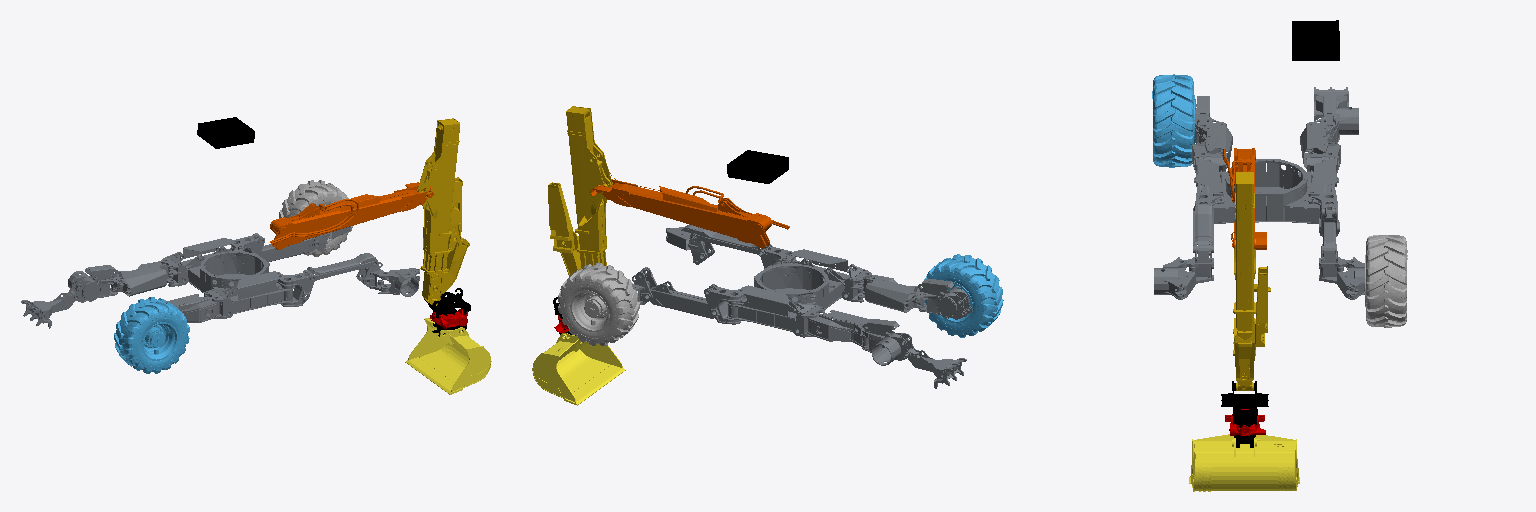
--- Render facts (derived) ---
3 views of the same robot in one strip: view 1: azimuth 30°, elevation 25°; view 2: azimuth 150°, elevation 25°; view 3: azimuth 270°, elevation 25° (orthographic).
Model M545 with 47 links and 46 joints (22 revolute, 6 continuous, 1 prismatic, 17 fixed), rooted at BASE, posed joints at zero except 1 at the middle of their limits (J_DIPPER = 1.68).
Links seen in each view (by area): view 1: BASE, RH_WHEEL, DIPPER, BOOM, SHOVEL, TELE, LF_WHEEL, LH_KNUCKLE, roof_top_box, LH_BEAM, RH_BEAM, RF_KNUCKLE (+6 smaller); view 2: BASE, LF_WHEEL, BOOM, DIPPER, SHOVEL, RH_WHEEL, TELE, RH_KNUCKLE, LH_KNUCKLE, LH_BEAM, roof_top_box, RH_BEAM (+8 smaller); view 3: BASE, SHOVEL, LF_WHEEL, RH_WHEEL, DIPPER, TELE, roof_top_box, RF_KNUCKLE, LH_KNUCKLE, ROTO_BASE, BOOM, LH_BEAM (+8 smaller).
Boxes of the visible links, left/top/right/bottom form: BASE: left=180, top=238, right=294, bottom=313; RH_WHEEL: left=114, top=297, right=189, bottom=373; DIPPER: left=417, top=118, right=459, bottom=274; BOOM: left=270, top=182, right=433, bottom=249; SHOVEL: left=405, top=318, right=491, bottom=394; TELE: left=422, top=127, right=469, bottom=305; LF_WHEEL: left=279, top=180, right=352, bottom=256; LH_KNUCKLE: left=68, top=265, right=123, bottom=302; roof_top_box: left=197, top=117, right=254, bottom=148; LH_BEAM: left=110, top=261, right=168, bottom=296; RH_BEAM: left=166, top=294, right=219, bottom=322; RF_KNUCKLE: left=378, top=268, right=419, bottom=296; BASE: left=727, top=249, right=849, bottom=332; LF_WHEEL: left=558, top=263, right=639, bottom=345; BOOM: left=590, top=172, right=789, bottom=248; DIPPER: left=566, top=106, right=612, bottom=269; SHOVEL: left=532, top=333, right=625, bottom=405; RH_WHEEL: left=924, top=254, right=1003, bottom=337; TELE: left=548, top=116, right=588, bottom=276; RH_KNUCKLE: left=912, top=278, right=972, bottom=319; LH_KNUCKLE: left=862, top=319, right=914, bottom=365; LH_BEAM: left=807, top=310, right=870, bottom=347; roof_top_box: left=727, top=150, right=788, bottom=183; RH_BEAM: left=863, top=275, right=925, bottom=312; BASE: left=1196, top=159, right=1335, bottom=223; SHOVEL: left=1189, top=434, right=1299, bottom=491; LF_WHEEL: left=1365, top=235, right=1407, bottom=327; RH_WHEEL: left=1152, top=74, right=1194, bottom=167; DIPPER: left=1233, top=172, right=1270, bottom=355; TELE: left=1234, top=266, right=1267, bottom=390; roof_top_box: left=1292, top=20, right=1339, bottom=60; RF_KNUCKLE: left=1154, top=257, right=1195, bottom=299; LH_KNUCKLE: left=1306, top=96, right=1358, bottom=143; ROTO_BASE: left=1221, top=381, right=1268, bottom=427; BOOM: left=1223, top=148, right=1266, bottom=249; LH_BEAM: left=1300, top=125, right=1340, bottom=172.
Bounding box of the posed robot: 7.95 × 3.44 × 5.09 m (x, y, z).
Meshes: 33 distinct files referenced, 25 mesh visuals loaded (25 Collada DAE); not drawn: 8 (reference not matched to a file when rendering).

robot.urdf — M545:
<?xml version="1.0" ?>
<!-- =================================================================================== -->
<!-- |    This document was autogenerated by xacro from m545.urdf.xacro                | -->
<!-- |    EDITING THIS FILE BY HAND IS NOT RECOMMENDED                                 | -->
<!-- =================================================================================== -->
<robot name="M545">
  <!--         		-->
  <!-- M545 Excavator -->
  <!--         		-->
  <!--     Front		-->
  <!-- 2*0.027604832 -->
  <!--     Hind		-->
  <!-- 1.5*-2.538998962 -->
  <!--     Chassis/Cabin		-->
  <!-- Parameters -->
  <gazebo>
    <plugin filename="libm545_gazebo_plugin.so" name="Plugin_M545">
      <max_effort>1500000</max_effort>
    </plugin>
  </gazebo>
  <static>false</static>
  <link name="BASE">
    <visual>
      <geometry>
        <mesh filename="package://m545_urdf/meshes/BASE.dae"/>
      </geometry>
      <origin rpy="0 0 0" xyz="0 0 0"/>
    </visual>
    <collision>
      <geometry>
        <box size="1.15 1.8 0.475"/>
      </geometry>
      <origin rpy="0 0 0" xyz="-0.0 -0.0 0.225"/>
    </collision>
  </link>
  <gazebo reference="BASE">
    <kp>50000000.0</kp>
    <kd>2000000.0</kd>
    <mu1>0.8</mu1>
    <mu2>0.8</mu2>
  </gazebo>
  <!-- Dummy inertia link, because KDL cannot have inertia on the base link -->
  <link name="BASE_inertia">
    <inertial>
      <origin rpy="0 0 0" xyz="-0.011047979 -0.001668192 0.164556349"/>
      <mass value="1700"/>
      <inertia ixx="712.367628108" ixy="0.063171691" ixz="-0.923139486" iyy="294.811317005" iyz="0.440023384" izz="941.703378555"/>
    </inertial>
  </link>
  <!-- Fixed joint to add dummy inertia link -->
  <joint name="BASE_to_BASE_inertia" type="fixed">
    <parent link="BASE"/>
    <child link="BASE_inertia"/>
    <origin rpy="0 0 0" xyz="0 0 0"/>
  </joint>
  <!--         		-->
  <!-- M545 Excavator -->
  <!--         		-->
  <!--     Front		-->
  <!-- 2*0.027604832 -->
  <!--     Hind		-->
  <!-- 1.5*-2.538998962 -->
  <!--     Chassis/Cabin		-->
  <link name="LF_SWIVEL">
    <visual>
      <geometry>
        <mesh filename="package://m545_urdf/meshes/LF_SWIVEL.dae"/>
      </geometry>
      <origin rpy="0 0 0" xyz="0 0 0"/>
    </visual>
    <inertial>
      <origin rpy="0 0 0" xyz="0.163191642 0.020092442 0.048603248"/>
      <mass value="115"/>
      <inertia ixx="4.398905519" ixy="0.435031339" ixz="0.186769766" iyy="6.276839457" iyz="-0.325429239" izz="4.062523726"/>
    </inertial>
    <collision>
      <geometry>
        <box size="0.58 0.22 0.5"/>
      </geometry>
      <origin rpy="0 0 0" xyz="0.18 0 0"/>
    </collision>
  </link>
  <gazebo reference="LF_SWIVEL">
    <kp>50000000.0</kp>
    <kd>2000000.0</kd>
    <mu1>0.8</mu1>
    <mu2>0.8</mu2>
  </gazebo>
  <joint name="J_LF_HAA" type="revolute">
    <parent link="BASE"/>
    <child link="LF_SWIVEL"/>
    <origin xyz="0.550 0.85 0.1335"/>
    <axis xyz="0 0 1"/>
    <!-- true if reflect=1-->
    <limit effort="1500000" lower="-0.5201" upper="0.7802" velocity="6.28"/>
    <!-- LF -->
    <dynamics damping="0.0" friction="0.0"/>
  </joint>
  <gazebo reference="J_LF_HAA">
  </gazebo>
  <link name="LF_BEAM">
    <visual>
      <geometry>
        <mesh filename="package://m545_urdf/meshes/LF_BEAM.dae"/>
      </geometry>
      <origin rpy="0 0 0" xyz="0 0 0"/>
    </visual>
    <inertial>
      <origin rpy="0 0 0" xyz="0.584124663 0.0 0.06694352"/>
      <mass value="200"/>
      <inertia ixx="3.428979601" ixy="-0.211389264" ixz="-0.112828418" iyy="32.455741081" iyz="-0.00050057" izz="30.021583564"/>
    </inertial>
    <collision>
      <geometry>
        <box size="1.1 0.28 0.25"/>
      </geometry>
      <origin rpy="0 0 0" xyz="0.6 0.0 -0.025"/>
    </collision>
  </link>
  <gazebo reference="LF_BEAM">
    <kp>50000000.0</kp>
    <kd>2000000.0</kd>
    <mu1>0.8</mu1>
    <mu2>0.8</mu2>
  </gazebo>
  <joint name="J_LF_HFE" type="revolute">
    <parent link="LF_SWIVEL"/>
    <child link="LF_BEAM"/>
    <origin xyz="0.28 0.0011 -0.0895"/>
    <axis xyz="0 1 0"/>
    <limit effort="1500000" lower="-0.3159" upper="0.8238" velocity="6.28"/>
    <dynamics damping="0.0" friction="0.0"/>
  </joint>
  <gazebo reference="J_LF_HFE">
  </gazebo>
  <link name="LF_PARALLEL">
    <visual>
      <geometry>
        <mesh filename="package://m545_urdf/meshes/LF_PARALLEL.dae"/>
      </geometry>
      <origin rpy="0 0 0" xyz="0 0 0"/>
    </visual>
    <inertial>
      <origin rpy="0 0 0" xyz="0.611997693 0.0 0.014937547"/>
      <mass value="75"/>
      <inertia ixx="0.764419514" ixy="-0.000525074" ixz="0.066640819" iyy="7.442807074" iyz="-0.000675307" izz="8.063270252"/>
    </inertial>
    <collision>
      <geometry>
        <box size="1.3 0.28 0.1"/>
      </geometry>
      <origin rpy="0 0 0" xyz="0.6 0.0 0.01"/>
    </collision>
  </link>
  <gazebo reference="LF_PARALLEL">
    <kp>50000000.0</kp>
    <kd>2000000.0</kd>
    <mu1>0.8</mu1>
    <mu2>0.8</mu2>
  </gazebo>
  <joint name="J_LF_PARALLEL2" type="revolute">
    <parent link="LF_SWIVEL"/>
    <child link="LF_PARALLEL"/>
    <origin xyz="0.4249 0.0017 0.2105"/>
    <axis xyz="0 1 0"/>
    <limit effort="1500000" lower="-0.3159" upper="0.8238" velocity="6.28"/>
    <mimic joint="J_LF_HFE" multiplier="1" offset="0"/>
    <dynamics damping="0.0" friction="0.0"/>
  </joint>
  <gazebo reference="J_LF_PARALLEL2">
  </gazebo>
  <gazebo>
    <joint name="J_LF_PARALLEL3" type="ball">
      <parent>LF_PARALLEL</parent>
      <child>LF_BEARING</child>
      <pose>0.145 0.0 0.3 0 0 0</pose>
      <axis>
        <xyz>0 1 0</xyz>
        <limit>
          <lower>-0.8238</lower>
          <upper>0.3159</upper>
          <velocity>6.28</velocity>
          <effort>1500000</effort>
        </limit>
      </axis>
    </joint>
  </gazebo>
  <link name="LF_BEARING">
    <visual>
      <geometry>
        <mesh filename="package://m545_urdf/meshes/LF_BEARING.dae"/>
      </geometry>
      <origin rpy="0 0 0" xyz="0 0 0"/>
    </visual>
    <inertial>
      <origin rpy="0 0 0" xyz="0.145288714 -0.057062246 0.045380647"/>
      <mass value="100"/>
      <inertia ixx="3.490730027" ixy="-0.367098034" ixz="0.050497166" iyy="2.470939089" iyz="0.283572413" izz="2.21999363"/>
    </inertial>
    <collision>
      <geometry>
        <box size="0.18 0.3 0.325"/>
      </geometry>
      <origin rpy="0 0 0" xyz="0.2 0.2 0"/>
    </collision>
    <collision>
      <geometry>
        <box size="0.275 0.275 0.525"/>
      </geometry>
      <origin rpy="0 0.5 0" xyz="0.125 0.025 0.1"/>
    </collision>
  </link>
  <gazebo reference="LF_BEARING">
    <kp>50000000.0</kp>
    <kd>2000000.0</kd>
    <mu1>0.8</mu1>
    <mu2>0.8</mu2>
  </gazebo>
  <joint name="J_LF_PARALLEL" type="revolute">
    <parent link="LF_BEAM"/>
    <child link="LF_BEARING"/>
    <origin xyz="1.2 0.0 0.0"/>
    <axis xyz="0 1 0"/>
    <limit effort="1500000" lower="-0.8238" upper="0.3159" velocity="6.28"/>
    <mimic joint="J_LF_HFE" multiplier="-1" offset="0"/>
    <dynamics damping="0.0" friction="0.0"/>
  </joint>
  <gazebo reference="J_LF_PARALLEL">
  </gazebo>
  <link name="LF_KNUCKLE">
    <visual>
      <geometry>
        <mesh filename="package://m545_urdf/meshes/LF_KNUCKLE.dae"/>
      </geometry>
      <origin rpy="0 0 0" xyz="0 0 0"/>
    </visual>
    <inertial>
      <origin rpy="0 0 0" xyz="0.256156551 0.082176716 0.030358334"/>
      <mass value="270"/>
      <inertia ixx="6.9755496" ixy="0.055209664" ixz="0.00675143" iyy="10.94537266" iyz="-0.003582388" izz="12.678481354"/>
    </inertial>
    <collision>
      <geometry>
        <box size="0.35 0.15 0.35"/>
      </geometry>
      <origin rpy="0 0 0.825" xyz="0.075 0.075 0"/>
    </collision>
    <collision>
      <geometry>
        <box size="0.4 0.3 0.2"/>
      </geometry>
      <origin rpy="0 0 0.3" xyz="0.35 0 0"/>
    </collision>
    <collision>
      <geometry>
        <cylinder length="0.35" radius="0.18"/>
      </geometry>
      <origin rpy="1.57 0 0" xyz="0.275 0.2 0"/>
    </collision>
  </link>
  <gazebo reference="LF_KNUCKLE">
    <kp>50000000.0</kp>
    <kd>2000000.0</kd>
    <mu1>0.8</mu1>
    <mu2>0.8</mu2>
  </gazebo>
  <joint name="J_LF_STEER" type="revolute">
    <parent link="LF_BEARING"/>
    <child link="LF_KNUCKLE"/>
    <origin xyz="0.235 0.298 -0.003"/>
    <axis xyz="0 0 1"/>
    <!-- true if reflect=1-->
    <limit effort="1500000" lower="-0.8517" upper="0.8115" velocity="6.28"/>
    <!-- LF -->
    <dynamics damping="0.0" friction="0.0"/>
  </joint>
  <gazebo reference="J_LF_STEER">
  </gazebo>
  <link name="LF_WHEEL">
    <visual>
      <geometry>
        <mesh filename="package://m545_urdf/meshes/LF_WHEEL.dae"/>
      </geometry>
      <origin rpy="0 0 0" xyz="0 0 0"/>
    </visual>
    <inertial>
      <origin rpy="0 0 0" xyz="0 0.007923201 0"/>
      <mass value="280"/>
      <inertia ixx="38.817750093" ixy="0" ixz="0" iyy="62.372189183" iyz="0" izz="38.815038925"/>
    </inertial>
    <collision>
      <geometry>
        <cylinder length="0.01" radius="0.6296"/>
      </geometry>
      <origin rpy="1.57 0 0" xyz="0 0 0"/>
    </collision>
  </link>
  <gazebo reference="LF_WHEEL">
    <kp>50000000.0</kp>
    <kd>2000000.0</kd>
    <mu1>0.8</mu1>
    <mu2>0.8</mu2>
  </gazebo>
  <joint name="J_LF_WHEEL" type="continuous">
    <parent link="LF_KNUCKLE"/>
    <child link="LF_WHEEL"/>
    <origin xyz="0.27 0.471 0.003"/>
    <axis xyz="0 1 0"/>
    <limit effort="1500000" velocity="6.28"/>
    <dynamics damping="0.0" friction="0.0"/>
  </joint>
  <gazebo reference="J_LF_WHEEL">
  </gazebo>
  <link name="LF_WHEEL_CONTACT"/>
  <joint name="LF_WHEEL_TO_LF_WHEEL_CONTACT" type="fixed">
    <parent link="LF_WHEEL"/>
    <child link="LF_WHEEL_CONTACT"/>
    <origin rpy="0 0 0" xyz="0 0 0"/>
  </joint>
  <link name="LH_ROTATOR">
    <visual>
      <geometry>
        <mesh filename="package://m545_urdf/meshes/LH_ROTATOR.dae"/>
      </geometry>
      <origin rpy="0 0 0" xyz="0 0 0"/>
    </visual>
    <inertial>
      <origin rpy="0 0 0" xyz="-0.090832234 0.002744135 0.144031103"/>
      <mass value="115"/>
      <inertia ixx="3.867796397" ixy="0.203079468" ixz="0.25308155" iyy="2.672208384" iyz="0.13501603" izz="2.648139472"/>
    </inertial>
    <collision>
      <geometry>
        <box size="0.3607 0.404 0.4"/>
      </geometry>
      <origin rpy="0 0 0" xyz="-0.05 0.0 0.12"/>
    </collision>
  </link>
  <gazebo reference="LH_ROTATOR">
    <kp>50000000.0</kp>
    <kd>2000000.0</kd>
    <mu1>0.8</mu1>
    <mu2>0.8</mu2>
  </gazebo>
  <joint name="J_LH_HFE" type="revolute">
    <parent link="BASE"/>
    <child link="LH_ROTATOR"/>
    <origin xyz="-0.640 0.755 0.060"/>
    <axis xyz="0 1 0"/>
    <limit effort="1500000" lower="-0.8343" upper="0.2618" velocity="6.28"/>
    <dynamics damping="0.0" friction="0.0"/>
  </joint>
  <gazebo reference="J_LH_HFE">
  </gazebo>
  <link name="LH_BEAM">
    <visual>
      <geometry>
        <mesh filename="package://m545_urdf/meshes/LH_BEAM.dae"/>
      </geometry>
      <origin rpy="0 0 0" xyz="0 0 0"/>
    </visual>
    <inertial>
      <origin rpy="0 0 0" xyz="-0.48851373 -0.042755794 -0.038331283"/>
      <mass value="280"/>
      <inertia ixx="7.06360381" ixy="-2.077029642" ixz="-1.804851306" iyy="24.488420582" iyz="0.498393128" izz="27.012076439"/>
    </inertial>
    <collision>
      <geometry>
        <box size="0.95 0.45 0.3"/>
      </geometry>
      <origin rpy="0 0 0" xyz="-0.5 -0.15 0.05"/>
    </collision>
  </link>
  <gazebo reference="LH_BEAM">
    <kp>50000000.0</kp>
    <kd>2000000.0</kd>
    <mu1>0.8</mu1>
    <mu2>0.8</mu2>
  </gazebo>
  <joint name="J_LH_HAA" type="revolute">
    <parent link="LH_ROTATOR"/>
    <child link="LH_BEAM"/>
    <origin xyz="-0.205 0.102 0.12"/>
    <axis xyz="0 0 1"/>
    <!-- true if reflect=1-->
    <limit effort="1500000" lower="-0.731292957" upper="0.542797397" velocity="6.28"/>
    <dynamics damping="0.0" friction="0.0"/>
  </joint>
  <gazebo reference="J_LH_HAA">
  </gazebo>
  <link name="LH_KNUCKLE">
    <visual>
      <geometry>
        <mesh filename="package://m545_urdf/meshes/LH_KNUCKLE.dae"/>
      </geometry>
      <origin rpy="0 0 0" xyz="0 0 0"/>
    </visual>
    <inertial>
      <origin rpy="0 0 0" xyz="-0.419372367 0.213687621 0.056306222"/>
      <mass value="370"/>
      <inertia ixx="18.225198614" ixy="-3.808498443" ixz="-0.992617577" iyy="28.156282278" iyz="2.506100865" izz="29.142770892"/>
    </inertial>
    <collision>
      <geometry>
        <box size="0.8 0.2 0.55"/>
      </geometry>
      <origin rpy="0 0 0" xyz="-0.4 0.0 0.125"/>
    </collision>
  </link>
  <gazebo reference="LH_KNUCKLE">
    <kp>50000000.0</kp>
    <kd>2000000.0</kd>
    <mu1>0.8</mu1>
    <mu2>0.8</mu2>
  </gazebo>
  <joint name="J_LH_STEER" type="revolute">
    <parent link="LH_BEAM"/>
    <child link="LH_KNUCKLE"/>
    <origin xyz="-0.975 0.0 -0.045"/>
    <axis xyz="0 0 1"/>
    <!-- true if reflect=1-->
    <limit effort="1500000" lower="-0.816743" upper="1.2863077" velocity="6.28"/>
    <dynamics damping="0.0" friction="0.0"/>
  </joint>
  <gazebo reference="J_LH_STEER">
  </gazebo>
  <link name="LH_WHEEL">
    <visual>
      <geometry>
        <mesh filename="package://m545_urdf/meshes/LH_WHEEL.dae"/>
      </geometry>
      <origin rpy="0 0 0" xyz="0 0 0"/>
    </visual>
    <inertial>
      <origin rpy="0 0 0" xyz="0 0.007923201 0"/>
      <mass value="280"/>
      <inertia ixx="38.817750093" ixy="0" ixz="0" iyy="62.372189183" iyz="0" izz="38.815038925"/>
    </inertial>
    <collision>
      <geometry>
        <cylinder length="0.01" radius="0.6296"/>
      </geometry>
      <origin rpy="1.57 0 0" xyz="0 0 0"/>
    </collision>
  </link>
  <gazebo reference="LH_WHEEL">
    <kp>50000000.0</kp>
    <kd>2000000.0</kd>
    <mu1>0.8</mu1>
    <mu2>0.8</mu2>
  </gazebo>
  <joint name="J_LH_WHEEL" type="continuous">
    <parent link="LH_KNUCKLE"/>
    <child link="LH_WHEEL"/>
    <origin xyz="-0.5 0.398 0.0305"/>
    <axis xyz="0 1 0"/>
    <limit effort="1500000" velocity="6.28"/>
    <dynamics damping="0.0" friction="0.0"/>
  </joint>
  <gazebo reference="J_LH_WHEEL">
  </gazebo>
  <link name="LH_WHEEL_CONTACT"/>
  <joint name="LH_WHEEL_TO_LH_WHEEL_CONTACT" type="fixed">
    <parent link="LH_WHEEL"/>
    <child link="LH_WHEEL_CONTACT"/>
    <origin rpy="0 0 0" xyz="0 0 0"/>
  </joint>
  <link name="LH_OUTRIGGER">
    <visual>
      <geometry>
        <mesh filename="package://m545_urdf/meshes/LH_OUTRIGGER.dae"/>
      </geometry>
      <origin rpy="0 0 0" xyz="0 0 0"/>
    </visual>
    <inertial>
      <origin rpy="0 0 0" xyz="-0.555493105 0 -0.140022870"/>
      <mass value="110"/>
      <inertia ixx="2.214139767" ixy="0" ixz="0.453481428" iyy="5.356489473" iyz="0" izz="6.037643655"/>
    </inertial>
    <collision>
      <geometry>
        <box size="0.35 0.45 0.4"/>
      </geometry>
      <origin rpy="0 0 0" xyz="-0.725 0 -0.2"/>
    </collision>
    <collision>
      <geometry>
        <box size="0.525 0.15 0.16"/>
      </geometry>
      <origin rpy="0 0 0" xyz="-0.325 0 -0.125"/>
    </collision>
  </link>
  <gazebo reference="LH_OUTRIGGER">
    <kp>50000000.0</kp>
    <kd>2000000.0</kd>
    <mu1>0.8</mu1>
    <mu2>0.8</mu2>
  </gazebo>
  <joint name="J_LH_CLAW" type="revolute">
    <parent link="LH_KNUCKLE"/>
    <child link="LH_OUTRIGGER"/>
    <origin xyz="-0.7921 0.019 -0.0105"/>
    <axis xyz="0 1 0"/>
    <limit effort="1500000" lower="-1.57" upper="1.57" velocity="6.28"/>
    <!-- TODO -->
    <dynamics damping="0.0" friction="0.0"/>
  </joint>
  <gazebo reference="J_LH_CLAW">
  </gazebo>
  <!--         		-->
  <!-- M545 Excavator -->
  <!--         		-->
  <!--     Front		-->
  <!-- 2*0.027604832 -->
  <!--     Hind		-->
  <!-- 1.5*-2.538998962 -->
  <!--     Chassis/Cabin		-->
  <link name="RF_SWIVEL">
    <visual>
      <geometry>
        <mesh filename="package://m545_urdf/meshes/RF_SWIVEL.dae"/>
      </geometry>
      <origin rpy="0 0 0" xyz="0 0 0"/>
    </visual>
    <inertial>
      <origin rpy="0 0 0" xyz="0.163191642 -0.020092442 0.048603248"/>
      <mass value="115"/>
      <inertia ixx="4.398905519" ixy="-0.435031339" ixz="0.186769766" iyy="6.276839457" iyz="0.325429239" izz="4.062523726"/>
    </inertial>
    <collision>
      <geometry>
        <box size="0.58 0.22 0.5"/>
      </geometry>
      <origin rpy="0 0 0" xyz="0.18 0 0"/>
    </collision>
  </link>
  <gazebo reference="RF_SWIVEL">
    <kp>50000000.0</kp>
    <kd>2000000.0</kd>
    <mu1>0.8</mu1>
    <mu2>0.8</mu2>
  </gazebo>
  <joint name="J_RF_HAA" type="revolute">
    <parent link="BASE"/>
    <child link="RF_SWIVEL"/>
    <origin xyz="0.550 -0.85 0.1335"/>
    <axis xyz="0 0 1"/>
    <!-- true if reflect=-1-->
    <limit effort="1500000" lower="-0.7802" upper="0.5201" velocity="6.28"/>
    <!-- RF -->
    <dynamics damping="0.0" friction="0.0"/>
  </joint>
  <gazebo reference="J_RF_HAA">
  </gazebo>
  <link name="RF_BEAM">
    <visual>
      <geometry>
        <mesh filename="package://m545_urdf/meshes/RF_BEAM.dae"/>
      </geometry>
      <origin rpy="0 0 0" xyz="0 0 0"/>
    </visual>
    <inertial>
      <origin rpy="0 0 0" xyz="0.584124663 -0.0 0.06694352"/>
      <mass value="200"/>
      <inertia ixx="3.428979601" ixy="0.211389264" ixz="-0.112828418" iyy="32.455741081" iyz="0.00050057" izz="30.021583564"/>
    </inertial>
    <collision>
      <geometry>
        <box size="1.1 0.28 0.25"/>
      </geometry>
      <origin rpy="0 0 0" xyz="0.6 -0.0 -0.025"/>
    </collision>
  </link>
  <gazebo reference="RF_BEAM">
    <kp>50000000.0</kp>
    <kd>2000000.0</kd>
    <mu1>0.8</mu1>
    <mu2>0.8</mu2>
  </gazebo>
  <joint name="J_RF_HFE" type="revolute">
    <parent link="RF_SWIVEL"/>
    <child link="RF_BEAM"/>
    <origin xyz="0.28 -0.0011 -0.0895"/>
    <axis xyz="0 1 0"/>
    <limit effort="1500000" lower="-0.3159" upper="0.8238" velocity="6.28"/>
    <dynamics damping="0.0" friction="0.0"/>
  </joint>
  <gazebo reference="J_RF_HFE">
  </gazebo>
  <link name="RF_PARALLEL">
    <visual>
      <geometry>
        <mesh filename="package://m545_urdf/meshes/RF_PARALLEL.dae"/>
      </geometry>
      <origin rpy="0 0 0" xyz="0 0 0"/>
    </visual>
    <inertial>
      <origin rpy="0 0 0" xyz="0.611997693 -0.0 0.014937547"/>
      <mass value="75"/>
      <inertia ixx="0.764419514" ixy="0.000525074" ixz="0.066640819" iyy="7.442807074" iyz="0.000675307" izz="8.063270252"/>
    </inertial>
    <collision>
      <geometry>
        <box size="1.3 0.28 0.1"/>
      </geometry>
      <origin rpy="0 0 0" xyz="0.6 -0.0 0.01"/>
    </collision>
  </link>
  <gazebo reference="RF_PARALLEL">
    <kp>50000000.0</kp>
    <kd>2000000.0</kd>
    <mu1>0.8</mu1>
    <mu2>0.8</mu2>
  </gazebo>
  <joint name="J_RF_PARALLEL2" type="revolute">
    <parent link="RF_SWIVEL"/>
    <child link="RF_PARALLEL"/>
    <origin xyz="0.4249 -0.0017 0.2105"/>
    <axis xyz="0 1 0"/>
    <limit effort="1500000" lower="-0.3159" upper="0.8238" velocity="6.28"/>
    <mimic joint="J_RF_HFE" multiplier="1" offset="0"/>
    <dynamics damping="0.0" friction="0.0"/>
  </joint>
  <gazebo reference="J_RF_PARALLEL2">
  </gazebo>
  <gazebo>
    <joint name="J_RF_PARALLEL3" type="ball">
      <parent>RF_PARALLEL</parent>
      <child>RF_BEARING</child>
      <pose>0.145 -0.0 0.3 0 0 0</pose>
      <axis>
        <xyz>0 1 0</xyz>
        <limit>
          <lower>-0.8238</lower>
          <upper>0.3159</upper>
          <velocity>6.28</velocity>
          <effort>1500000</effort>
        </limit>
      </axis>
    </joint>
  </gazebo>
  <link name="RF_BEARING">
    <visual>
      <geometry>
        <mesh filename="package://m545_urdf/meshes/RF_BEARING.dae"/>
      </geometry>
      <origin rpy="0 0 0" xyz="0 0 0"/>
    </visual>
    <inertial>
      <origin rpy="0 0 0" xyz="0.145288714 0.057062246 0.045380647"/>
      <mass value="100"/>
      <inertia ixx="3.490730027" ixy="0.367098034" ixz="0.050497166" iyy="2.470939089" iyz="-0.283572413" izz="2.21999363"/>
    </inertial>
    <collision>
      <geometry>
        <box size="0.18 0.3 0.325"/>
      </geometry>
      <origin rpy="0 0 0" xyz="0.2 -0.2 0"/>
    </collision>
    <collision>
      <geometry>
        <box size="0.275 0.275 0.525"/>
      </geometry>
      <origin rpy="0 0.5 0" xyz="0.125 -0.025 0.1"/>
    </collision>
  </link>
  <gazebo reference="RF_BEARING">
    <kp>50000000.0</kp>
    <kd>2000000.0</kd>
    <mu1>0.8</mu1>
    <mu2>0.8</mu2>
  </gazebo>
  <joint name="J_RF_PARALLEL" type="revolute">
    <parent link="RF_BEAM"/>
    <child link="RF_BEARING"/>
    <origin xyz="1.2 -0.0 0.0"/>
    <axis xyz="0 1 0"/>
    <limit effort="1500000" lower="-0.8238" upper="0.3159" velocity="6.28"/>
    <mimic joint="J_RF_HFE" multiplier="-1" offset="0"/>
    <dynamics damping="0.0" friction="0.0"/>
  </joint>
  <gazebo reference="J_RF_PARALLEL">
  </gazebo>
  <link name="RF_KNUCKLE">
    <visual>
      <geometry>
        <mesh filename="package://m545_urdf/meshes/RF_KNUCKLE.dae"/>
      </geometry>
      <origin rpy="0 0 0" xyz="0 0 0"/>
    </visual>
    <inertial>
      <origin rpy="0 0 0" xyz="0.256156551 -0.082176716 0.030358334"/>
      <mass value="270"/>
      <inertia ixx="6.9755496" ixy="-0.055209664" ixz="0.00675143" iyy="10.94537266" iyz="0.003582388" izz="12.678481354"/>
    </inertial>
    <collision>
      <geometry>
        <box size="0.35 0.15 0.35"/>
      </geometry>
      <origin rpy="0 0 -0.825" xyz="0.075 -0.075 0"/>
    </collision>
    <collision>
      <geometry>
        <box size="0.4 0.3 0.2"/>
      </geometry>
      <origin rpy="0 0 -0.3" xyz="0.35 0 0"/>
    </collision>
    <collision>
      <geometry>
        <cylinder length="0.35" radius="0.18"/>
      </geometry>
      <origin rpy="1.57 0 0" xyz="0.275 -0.2 0"/>
    </collision>
  </link>
  <gazebo reference="RF_KNUCKLE">
    <kp>50000000.0</kp>
    <kd>2000000.0</kd>
    <mu1>0.8</mu1>
    <mu2>0.8</mu2>
  </gazebo>
  <joint name="J_RF_STEER" type="revolute">
    <parent link="RF_BEARING"/>
    <child link="RF_KNUCKLE"/>
    <origin xyz="0.235 -0.298 -0.003"/>
    <axis xyz="0 0 1"/>
    <!-- true if reflect=-1-->
    <limit effort="1500000" lower="-0.8115" upper="0.8517" velocity="6.28"/>
    <!-- RF -->
    <dynamics damping="0.0" friction="0.0"/>
  </joint>
  <gazebo reference="J_RF_STEER">
  </gazebo>
  <link name="RF_WHEEL">
    <visual>
      <geometry>
        <mesh filename="package://m545_urdf/meshes/RF_WHEEL.dae"/>
      </geometry>
      <origin rpy="0 0 0" xyz="0 0 0"/>
    </visual>
    <inertial>
      <origin rpy="0 0 0" xyz="0 -0.007923201 0"/>
      <mass value="280"/>
      <inertia ixx="38.817750093" ixy="0" ixz="0" iyy="62.372189183" iyz="0" izz="38.815038925"/>
    </inertial>
    <collision>
      <geometry>
        <cylinder length="0.01" radius="0.6296"/>
      </geometry>
      <origin rpy="1.57 0 0" xyz="0 0 0"/>
    </collision>
  </link>
  <gazebo reference="RF_WHEEL">
    <kp>50000000.0</kp>
    <kd>2000000.0</kd>
    <mu1>0.8</mu1>
    <mu2>0.8</mu2>
  </gazebo>
  <joint name="J_RF_WHEEL" type="continuous">
    <parent link="RF_KNUCKLE"/>
    <child link="RF_WHEEL"/>
    <origin xyz="0.27 -0.471 0.003"/>
    <axis xyz="0 1 0"/>
    <limit effort="1500000" velocity="6.28"/>
    <dynamics damping="0.0" friction="0.0"/>
  </joint>
  <gazebo reference="J_RF_WHEEL">
  </gazebo>
  <link name="RF_WHEEL_CONTACT"/>
  <joint name="RF_WHEEL_TO_RF_WHEEL_CONTACT" type="fixed">
    <parent link="RF_WHEEL"/>
    <child link="RF_WHEEL_CONTACT"/>
    <origin rpy="0 0 0" xyz="0 0 0"/>
  </joint>
  <link name="RH_ROTATOR">
    <visual>
      <geometry>
        <mesh filename="package://m545_urdf/meshes/RH_ROTATOR.dae"/>
      </geometry>
      <origin rpy="0 0 0" xyz="0 0 0"/>
    </visual>
    <inertial>
      <origin rpy="0 0 0" xyz="-0.090832234 -0.002744135 0.144031103"/>
      <mass value="115"/>
      <inertia ixx="3.867796397" ixy="-0.203079468" ixz="0.25308155" iyy="2.672208384" iyz="-0.13501603" izz="2.648139472"/>
    </inertial>
    <collision>
      <geometry>
        <box size="0.3607 0.404 0.4"/>
      </geometry>
      <origin rpy="0 0 0" xyz="-0.05 -0.0 0.12"/>
    </collision>
  </link>
  <gazebo reference="RH_ROTATOR">
    <kp>50000000.0</kp>
    <kd>2000000.0</kd>
    <mu1>0.8</mu1>
    <mu2>0.8</mu2>
  </gazebo>
  <joint name="J_RH_HFE" type="revolute">
    <parent link="BASE"/>
    <child link="RH_ROTATOR"/>
    <origin xyz="-0.640 -0.755 0.060"/>
    <axis xyz="0 1 0"/>
    <limit effort="1500000" lower="-0.8343" upper="0.2618" velocity="6.28"/>
    <dynamics damping="0.0" friction="0.0"/>
  </joint>
  <gazebo reference="J_RH_HFE">
  </gazebo>
  <link name="RH_BEAM">
    <visual>
      <geometry>
        <mesh filename="package://m545_urdf/meshes/RH_BEAM.dae"/>
      </geometry>
      <origin rpy="0 0 0" xyz="0 0 0"/>
    </visual>
    <inertial>
      <origin rpy="0 0 0" xyz="-0.48851373 0.042755794 -0.038331283"/>
      <mass value="280"/>
      <inertia ixx="7.06360381" ixy="2.077029642" ixz="-1.804851306" iyy="24.488420582" iyz="-0.498393128" izz="27.012076439"/>
    </inertial>
    <collision>
      <geometry>
        <box size="0.95 0.45 0.3"/>
      </geometry>
      <origin rpy="0 0 0" xyz="-0.5 0.15 0.05"/>
    </collision>
  </link>
  <gazebo reference="RH_BEAM">
    <kp>50000000.0</kp>
    <kd>2000000.0</kd>
    <mu1>0.8</mu1>
    <mu2>0.8</mu2>
  </gazebo>
  <joint name="J_RH_HAA" type="revolute">
    <parent link="RH_ROTATOR"/>
    <child link="RH_BEAM"/>
    <origin xyz="-0.205 -0.102 0.12"/>
    <axis xyz="0 0 1"/>
    <!-- true if reflect=-1-->
    <limit effort="1500000" lower="-0.542797397" upper="0.731292957" velocity="6.28"/>
    <dynamics damping="0.0" friction="0.0"/>
  </joint>
  <gazebo reference="J_RH_HAA">
  </gazebo>
  <link name="RH_KNUCKLE">
    <visual>
      <geometry>
        <mesh filename="package://m545_urdf/meshes/RH_KNUCKLE.dae"/>
      </geometry>
      <origin rpy="0 0 0" xyz="0 0 0"/>
    </visual>
    <inertial>
      <origin rpy="0 0 0" xyz="-0.419372367 -0.213687621 0.056306222"/>
      <mass value="370"/>
      <inertia ixx="18.225198614" ixy="3.808498443" ixz="-0.992617577" iyy="28.156282278" iyz="-2.506100865" izz="29.142770892"/>
    </inertial>
    <collision>
      <geometry>
        <box size="0.8 0.2 0.55"/>
      </geometry>
      <origin rpy="0 0 0" xyz="-0.4 -0.0 0.125"/>
    </collision>
  </link>
  <gazebo reference="RH_KNUCKLE">
    <kp>50000000.0</kp>
    <kd>2000000.0</kd>
    <mu1>0.8</mu1>
    <mu2>0.8</mu2>
  </gazebo>
  <joint name="J_RH_STEER" type="revolute">
    <parent link="RH_BEAM"/>
    <child link="RH_KNUCKLE"/>
    <origin xyz="-0.975 -0.0 -0.045"/>
    <axis xyz="0 0 1"/>
    <!-- true if reflect=-1-->
    <limit effort="1500000" lower="-1.2863077" upper="0.816743" velocity="6.28"/>
    <dynamics damping="0.0" friction="0.0"/>
  </joint>
  <gazebo reference="J_RH_STEER">
  </gazebo>
  <link name="RH_WHEEL">
    <visual>
      <geometry>
        <mesh filename="package://m545_urdf/meshes/RH_WHEEL.dae"/>
      </geometry>
      <origin rpy="0 0 0" xyz="0 0 0"/>
    </visual>
    <inertial>
      <origin rpy="0 0 0" xyz="0 -0.007923201 0"/>
      <mass value="280"/>
      <inertia ixx="38.817750093" ixy="0" ixz="0" iyy="62.372189183" iyz="0" izz="38.815038925"/>
    </inertial>
    <collision>
      <geometry>
        <cylinder length="0.01" radius="0.6296"/>
      </geometry>
      <origin rpy="1.57 0 0" xyz="0 0 0"/>
    </collision>
  </link>
  <gazebo reference="RH_WHEEL">
    <kp>50000000.0</kp>
    <kd>2000000.0</kd>
    <mu1>0.8</mu1>
    <mu2>0.8</mu2>
  </gazebo>
  <joint name="J_RH_WHEEL" type="continuous">
    <parent link="RH_KNUCKLE"/>
    <child link="RH_WHEEL"/>
    <origin xyz="-0.5 -0.398 0.0305"/>
    <axis xyz="0 1 0"/>
    <limit effort="1500000" velocity="6.28"/>
    <dynamics damping="0.0" friction="0.0"/>
  </joint>
  <gazebo reference="J_RH_WHEEL">
  </gazebo>
  <link name="RH_WHEEL_CONTACT"/>
  <joint name="RH_WHEEL_TO_RH_WHEEL_CONTACT" type="fixed">
    <parent link="RH_WHEEL"/>
    <child link="RH_WHEEL_CONTACT"/>
    <origin rpy="0 0 0" xyz="0 0 0"/>
  </joint>
  <link name="RH_OUTRIGGER">
    <visual>
      <geometry>
        <mesh filename="package://m545_urdf/meshes/RH_OUTRIGGER.dae"/>
      </geometry>
      <origin rpy="0 0 0" xyz="0 0 0"/>
    </visual>
    <inertial>
      <origin rpy="0 0 0" xyz="-0.555493105 0 -0.140022870"/>
      <mass value="110"/>
      <inertia ixx="2.214139767" ixy="0" ixz="0.453481428" iyy="5.356489473" iyz="0" izz="6.037643655"/>
    </inertial>
    <collision>
      <geometry>
        <box size="0.35 0.45 0.4"/>
      </geometry>
      <origin rpy="0 0 0" xyz="-0.725 0 -0.2"/>
    </collision>
    <collision>
      <geometry>
        <box size="0.525 0.15 0.16"/>
      </geometry>
      <origin rpy="0 0 0" xyz="-0.325 0 -0.125"/>
    </collision>
  </link>
  <gazebo reference="RH_OUTRIGGER">
    <kp>50000000.0</kp>
    <kd>2000000.0</kd>
    <mu1>0.8</mu1>
    <mu2>0.8</mu2>
  </gazebo>
  <joint name="J_RH_CLAW" type="revolute">
    <parent link="RH_KNUCKLE"/>
    <child link="RH_OUTRIGGER"/>
    <origin xyz="-0.7921 -0.019 -0.0105"/>
    <axis xyz="0 1 0"/>
    <limit effort="1500000" lower="-1.57" upper="1.57" velocity="6.28"/>
    <!-- TODO -->
    <dynamics damping="0.0" friction="0.0"/>
  </joint>
  <gazebo reference="J_RH_CLAW">
  </gazebo>
  <link name="CABIN">
    <visual>
      <geometry>
        <mesh filename="package://m545_urdf/meshes/CABIN.dae"/>
      </geometry>
      <origin rpy="0 0 0" xyz="0 0 0"/>
    </visual>
    <inertial>
      <origin rpy="0 0 0" xyz="-0.3727 0.1 0.9551"/>
      <mass value="4400"/>
      <inertia ixx="2485.29" ixy="0" ixz="0" iyy="1640.58" iyz="0" izz="1600.99"/>
    </inertial>
    <collision>
      <geometry>
        <box size="1.6 2.0 0.5"/>
      </geometry>
      <origin rpy="0 0 0" xyz="0 0 0.25"/>
    </collision>
    <collision>
      <geometry>
        <box size="1.7 1.45 1.3"/>
      </geometry>
      <origin rpy="0 0 0" xyz="0.0 0.25 1.1"/>
    </collision>
    <collision>
      <geometry>
        <cylinder length="2.0" radius="0.425"/>
      </geometry>
      <origin rpy="1.57 0 0" xyz="-0.8 0 0.6"/>
    </collision>
  </link>
  <gazebo reference="CABIN">
    <kp>50000000.0</kp>
    <kd>2000000.0</kd>
    <mu1>0.8</mu1>
    <mu2>0.8</mu2>
  </gazebo>
  <joint name="J_TURN" type="continuous">
    <parent link="BASE"/>
    <child link="CABIN"/>
    <origin xyz="0 0 0.516"/>
    <axis xyz="0 0 1"/>
    <limit effort="1500000" velocity="6.28"/>
    <dynamics damping="0.0" friction="0.0"/>
  </joint>
  <gazebo reference="J_TURN">
  </gazebo>
  <link name="BOOM">
    <visual>
      <geometry>
        <mesh filename="package://m545_urdf/meshes/BOOM.dae"/>
      </geometry>
      <origin rpy="0 0 0" xyz="0 0 0"/>
    </visual>
    <inertial>
      <origin rpy="0 0 0" xyz="1.38936 -0.0004 0.0178046"/>
      <mass value="1400"/>
      <inertia ixx="62.7074" ixy="2.3197" ixz="89.1783" iyy="3291.58" iyz="0.0295" izz="3291.58"/>
    </inertial>
    <collision>
      <geometry>
        <box size="3 0.4 0.25"/>
      </geometry>
      <origin rpy="0 0 0" xyz="1.3 0.0 -0.05"/>
    </collision>
  </link>
  <gazebo reference="BOOM">
    <kp>50000000.0</kp>
    <kd>2000000.0</kd>
    <mu1>0.8</mu1>
    <mu2>0.8</mu2>
  </gazebo>
  <joint name="J_BOOM" type="revolute">
    <parent link="CABIN"/>
    <child link="BOOM"/>
    <origin xyz="0.703 -0.292 0.5494"/>
    <axis xyz="0 1 0"/>
    <limit effort="1500000" lower="-1.34" upper="0.44" velocity="6.28"/>
    <dynamics damping="0.0" friction="0.0"/>
  </joint>
  <gazebo reference="J_BOOM">
  </gazebo>
  <link name="DIPPER">
    <visual>
      <geometry>
        <mesh filename="package://m545_urdf/meshes/DIPPER.dae"/>
      </geometry>
      <origin rpy="0 0 0" xyz="0 0 0"/>
    </visual>
    <inertial>
      <origin rpy="0 0 0" xyz="0.0492387 0.000321755 0.0561925"/>
      <mass value="1222.46"/>
      <inertia ixx="12.198" ixy="0.2074" ixz="1.257" iyy="388.5" iyz="-0.0002" izz="388.5"/>
    </inertial>
    <collision>
      <geometry>
        <box size="2.7 0.25 0.35"/>
      </geometry>
      <origin rpy="0 0 0" xyz="0.15 0.0 0.32"/>
    </collision>
  </link>
  <gazebo reference="DIPPER">
    <kp>50000000.0</kp>
    <kd>2000000.0</kd>
    <mu1>0.8</mu1>
    <mu2>0.8</mu2>
  </gazebo>
  <joint name="J_DIPPER" type="revolute">
    <parent link="BOOM"/>
    <child link="DIPPER"/>
    <origin xyz="2.84 0.0 0.0"/>
    <axis xyz="0 1 0"/>
    <limit effort="1500000" lower="0.58" upper="2.78" velocity="6.28"/>
    <dynamics damping="0.0" friction="0.0"/>
  </joint>
  <gazebo reference="J_DIPPER">
  </gazebo>
  <link name="TELE">
    <visual>
      <geometry>
        <mesh filename="package://m545_urdf/meshes/TELE.dae"/>
      </geometry>
      <origin rpy="0 0 0" xyz="0 0 0"/>
    </visual>
    <inertial>
      <origin rpy="0 0 0" xyz="1.57108 0.0 0.315267"/>
      <mass value="526.462"/>
      <inertia ixx="48.2112" ixy="-4.2332" ixz="40.1757" iyy="2345.62" iyz="3.0797" izz="2345.62"/>
    </inertial>
    <collision>
      <geometry>
        <box size="2.8 0.25 0.3"/>
      </geometry>
      <origin rpy="0 0 0" xyz="0.6 0.0189 0.0"/>
    </collision>
    <collision>
      <geometry>
        <box size="1.8 0.45 0.4"/>
      </geometry>
      <origin rpy="0 0 0" xyz="0.85 0.1 0.375"/>
    </collision>
  </link>
  <gazebo reference="TELE">
    <kp>50000000.0</kp>
    <kd>2000000.0</kd>
    <mu1>0.8</mu1>
    <mu2>0.8</mu2>
  </gazebo>
  <joint name="J_TELE" type="prismatic">
    <parent link="DIPPER"/>
    <child link="TELE"/>
    <origin xyz="0 0 0.369"/>
    <axis xyz="1 0 0"/>
    <limit effort="1500000" lower="0" upper="1.8" velocity="1"/>
    <dynamics damping="0.0" friction="0.0"/>
  </joint>
  <gazebo reference="J_TELE">
  </gazebo>
  <link name="ROTO_BASE">
    <visual>
      <geometry>
        <mesh filename="package://m545_urdf/meshes/ROTO_BASE.dae"/>
      </geometry>
      <origin rpy="0 0 0" xyz="0 0 0"/>
    </visual>
    <inertial>
      <origin rpy="0 0 0" xyz="0.059285 0.00330444 0.387339"/>
      <mass value="128"/>
      <inertia ixx="5.868" ixy="-0.038" ixz="0.131" iyy="4.22285" iyz="0.115" izz="2.543"/>
    </inertial>
    <collision>
      <geometry>
        <box size="0.44 0.65 0.77"/>
      </geometry>
      <origin rpy="0 0 0" xyz="0.101 -0.001 0.301"/>
    </collision>
  </link>
  <gazebo reference="ROTO_BASE">
    <kp>50000000.0</kp>
    <kd>2000000.0</kd>
    <mu1>0.8</mu1>
    <mu2>0.8</mu2>
  </gazebo>
  <joint name="J_EE_PITCH" type="revolute">
    <parent link="TELE"/>
    <child link="ROTO_BASE"/>
    <origin xyz="2.0266 0 0"/>
    <axis xyz="0 1 0"/>
    <limit effort="1500000" lower="-0.35" upper="2.28" velocity="6.28"/>
    <dynamics damping="0.0" friction="0.0"/>
  </joint>
  <gazebo reference="J_EE_PITCH">
  </gazebo>
  <link name="ROTO">
    <visual>
      <geometry>
        <mesh filename="package://m545_urdf/meshes/ROTO.dae"/>
      </geometry>
      <origin rpy="0 0 0" xyz="0 0 0.0225"/>
    </visual>
    <inertial>
      <origin rpy="0 0 0" xyz="0.0749009 -0.00404749  0.00135156"/>
      <mass value="260.0"/>
      <inertia ixx="5.289" ixy="0.019" ixz="-0.019" iyy="3.868" iyz="-0.124" izz="2.193"/>
    </inertial>
    <collision>
      <geometry>
        <box size="0.27 0.56 0.68"/>
      </geometry>
      <origin rpy="0 0 0" xyz="0.051 0.009 0.0"/>
    </collision>
  </link>
  <gazebo reference="ROTO">
    <kp>50000000.0</kp>
    <kd>2000000.0</kd>
    <mu1>0.8</mu1>
    <mu2>0.8</mu2>
  </gazebo>
  <joint name="J_EE_ROLL" type="revolute">
    <parent link="ROTO_BASE"/>
    <child link="ROTO"/>
    <origin xyz="0.263 0 0.342"/>
    <axis xyz="0 0 1"/>
    <limit effort="40500" lower="-0.698" upper="0.698" velocity="6.28"/>
    <dynamics damping="0.0" friction="0.0"/>
  </joint>
  <gazebo reference="J_EE_ROLL">
  </gazebo>
  <link name="ENDEFFECTOR">
    <visual>
      <geometry>
        <mesh filename="package://m545_urdf/meshes/ENDEFFECTOR.dae"/>
      </geometry>
      <origin rpy="0 0 0" xyz="0 0 0"/>
    </visual>
    <inertial>
      <origin rpy="0 0 0" xyz="0.0987 0.0000 0.0266"/>
      <mass value="125"/>
      <inertia ixx="1.806" ixy="0.0" ixz="-0.027" iyy="1.391" iyz="0.0" izz="0.848"/>
    </inertial>
    <collision>
      <geometry>
        <box size="0.27 0.56 0.68"/>
      </geometry>
      <origin rpy="0 0 0" xyz="0.127 0 0.044"/>
    </collision>
  </link>
  <gazebo reference="ENDEFFECTOR">
    <kp>50000000.0</kp>
    <kd>2000000.0</kd>
    <mu1>0.8</mu1>
    <mu2>0.8</mu2>
  </gazebo>
  <joint name="J_EE_YAW" type="continuous">
    <parent link="ROTO"/>
    <child link="ENDEFFECTOR"/>
    <origin xyz="0.147 0 0"/>
    <axis xyz="1 0 0"/>
    <limit effort="8200" velocity="0.898"/>
    <dynamics damping="0.0" friction="0.0"/>
  </joint>
  <gazebo reference="J_EE_YAW">
  </gazebo>
  <link name="SHOVEL">
    <inertial>
      <origin rpy="0 0 0" xyz="0.15 0.00015 0.147"/>
      <mass value="480"/>
      <inertia ixx="90.956" ixy="-0.03157" ixz="-7.54324" iyy="70.6513" iyz="-0.01441" izz="70.6513"/>
    </inertial>
    <visual>
      <origin rpy="0 0 0" xyz="0 0 0"/>
      <geometry>
        <mesh filename="package://m545_urdf/meshes/SHOVEL_1500.dae"/>
      </geometry>
    </visual>
    <collision>
      <origin rpy="0 -0.25 0" xyz="0.40 0 0.21"/>
      <geometry>
        <box size="0.75 1.5 0.9"/>
      </geometry>
    </collision>
  </link>
  <joint name="J_ROTO3EE" type="fixed">
    <parent link="ENDEFFECTOR"/>
    <child link="SHOVEL"/>
    <origin xyz="0.148 0 -0.149"/>
  </joint>
  <link name="ENDEFFECTOR_CONTACT"/>
  <joint name="SHOVEL_TO_ENDEFFECTOR_CONTACT" type="fixed">
    <parent link="SHOVEL"/>
    <child link="ENDEFFECTOR_CONTACT"/>
    <origin rpy="0 -0.244 0" xyz="0.86 0 -0.14"/>
  </joint>
  <link name="IMU_link">
        </link>
  <link name="IMU_base_link">
    <visual>
      <origin rpy="0 0 0" xyz="0 0 -0.012"/>
      <geometry>
        <box size="0.046 0.045 0.024"/>
      </geometry>
      <material name="red">
        <color rgba="1.0 0.0 0.0 1.0"/>
      </material>
    </visual>
    <collision>
      <origin rpy="0 0 0" xyz="0 0 -0.012"/>
      <geometry>
        <box size="0.046 0.045 0.024"/>
      </geometry>
    </collision>
    <!--<xacro:inertial_cuboid m="${m_imu}" w="${l_imu}" h="${h_imu}"
          d="${w_imu}"/>-->
  </link>
  <joint name="IMU_base_joint" type="fixed">
    <parent link="BASE"/>
    <child link="IMU_base_link"/>
    <origin rpy="-1.570796327 1.570796327 0.0" xyz="0.0 0.0 0.0"/>
  </joint>
  <joint name="IMU_joint" type="fixed">
    <parent link="IMU_base_link"/>
    <child link="IMU_link"/>
    <origin rpy="0 0 0" xyz="-0.0107 -0.00505 -0.00705"/>
  </joint>
  <gazebo reference="IMU_link">
    <material>Gazebo/Red</material>
    <mu1>0.8</mu1>
    <mu2>0.8</mu2>
  </gazebo>
  <gazebo reference="IMU_joint"/>
  <gazebo>
    <plugin filename="libany_hector_gazebo_ros_imu.so" name="IMU_plugin">
      <robotNamespace>/</robotNamespace>
      <bodyName>IMU_link</bodyName>
      <frameId>/imu_link</frameId>
      <topicName>/m545_imu</topicName>
      <biasTopicName>/m545_imu/bias</biasTopicName>
      <serviceName>/m545_imu/calibrate</serviceName>
      <updateRate>100</updateRate>
      <accelOffset>0 0 0</accelOffset>
      <accelDrift>0 0 0</accelDrift>
      <accelDriftFrequency>0 0 0</accelDriftFrequency>
      <accelGaussianNoise>0 0 0</accelGaussianNoise>
      <accelScaleError>1 1 1</accelScaleError>
      <rateOffset>0 0 0</rateOffset>
      <rateDrift>0 0 0</rateDrift>
      <rateDriftFrequency>0 0 0</rateDriftFrequency>
      <rateGaussianNoise>0 0 0</rateGaussianNoise>
      <rateScaleError>1 1 1</rateScaleError>
      <yawOffset>0</yawOffset>
      <yawDrift>0</yawDrift>
      <yawDriftFrequency>0</yawDriftFrequency>
      <yawGaussianNoise>0</yawGaussianNoise>
      <yawScaleError>1</yawScaleError>
    </plugin>
  </gazebo>
  <!-- Parameters -->
  <link name="camMainView">
		</link>
  <joint name="main_cam_joint" type="fixed">
    <parent link="CABIN"/>
    <child link="camMainView"/>
    <origin rpy="-3.12007057 -1.26337400 -0.02016684" xyz="0.632441 0.515741 2.06298"/>
  </joint>
  <material name="black">
    <color rgba="0 0 0 1"/>
  </material>
  <link name="roof_top_box">
    <inertial>
      <origin rpy="0 0 0" xyz="0 0 0"/>
      <mass value="20"/>
      <inertia ixx="17" ixy="17" ixz="17" iyy="17" iyz="17" izz="33"/>
    </inertial>
    <visual>
      <origin rpy="0 0 0" xyz="0 0 0.105"/>
      <geometry>
        <box size="0.74 0.64 0.21"/>
      </geometry>
      <material name="black"/>
    </visual>
    <collision>
      <origin rpy="0 0 0" xyz="0 0 0.105"/>
      <geometry>
        <box size="0.74 0.64 0.21"/>
      </geometry>
      <material name="red"/>
    </collision>
  </link>
  <joint name="roof_top_box_joint" type="fixed">
    <parent link="camMainView"/>
    <child link="roof_top_box"/>
    <origin rpy="3.1415 -1.33 0.0" xyz="-0.25 -0.15 -0.35"/>
  </joint>
  <link name="imu_box_link">
        </link>
  <link name="imu_box_base_link">
        </link>
  <joint name="imu_box_base_joint" type="fixed">
    <parent link="roof_top_box"/>
    <child link="imu_box_base_link"/>
    <origin rpy="3.1415 0 0" xyz="0.3 0 0.05"/>
  </joint>
  <joint name="imu_box_joint" type="fixed">
    <parent link="imu_box_base_link"/>
    <child link="imu_box_link"/>
    <origin rpy="0 0 0" xyz="0 0 0"/>
  </joint>
  <gazebo reference="imu_box_link">
    <material>Gazebo/Red</material>
    <mu1>0.8</mu1>
    <mu2>0.8</mu2>
  </gazebo>
  <gazebo reference="imu_box_joint"/>
  <gazebo>
    <plugin filename="libany_hector_gazebo_ros_imu.so" name="imu_box_plugin">
      <robotNamespace>/</robotNamespace>
      <bodyName>imu_box_link</bodyName>
      <frameId>/imu_box_link</frameId>
      <topicName>/microstrain_imu_node/microstrain_imu</topicName>
      <biasTopicName>/microstrain_imu_node/microstrain_imu/bias</biasTopicName>
      <serviceName>/microstrain_imu_node/microstrain_imu/calibrate</serviceName>
      <updateRate>100</updateRate>
      <accelOffset>0 0 0</accelOffset>
      <accelDrift>0 0 0</accelDrift>
      <accelDriftFrequency>0 0 0</accelDriftFrequency>
      <accelGaussianNoise>0 0 0</accelGaussianNoise>
      <accelScaleError>1 1 1</accelScaleError>
      <rateOffset>0 0 0</rateOffset>
      <rateDrift>0 0 0</rateDrift>
      <rateDriftFrequency>0 0 0</rateDriftFrequency>
      <rateGaussianNoise>0 0 0</rateGaussianNoise>
      <rateScaleError>1 1 1</rateScaleError>
      <yawOffset>0</yawOffset>
      <yawDrift>0</yawDrift>
      <yawDriftFrequency>0</yawDriftFrequency>
      <yawGaussianNoise>0</yawGaussianNoise>
      <yawScaleError>1</yawScaleError>
    </plugin>
  </gazebo>
  <joint name="os_sensor_mount_joint" type="fixed">
    <origin rpy="-1.783 -0.173 -1.545" xyz="0.219 -0.202 0.016"/>
    <parent link="camMainView"/>
    <child link="os_sensor"/>
  </joint>
  <link name="os_sensor">
    <inertial>
      <mass value="0.33"/>
      <origin rpy="0 0 0" xyz="0 0 0.0365"/>
      <inertia ixx="0.000241148" ixy="0" ixz="0" iyy="0.000241148" iyz="0" izz="0.000264"/>
    </inertial>
    <collision name="base_collision">
      <origin rpy="0 0 0" xyz="0 0 0.0365"/>
      <geometry>
        <cylinder length="0.073" radius="0.04"/>
      </geometry>
    </collision>
    <visual name="base_visual">
      <origin rpy="0 0 1.5707" xyz="0 0 0.0"/>
      <geometry>
        <mesh filename="package://asop_description/meshes/os1_64.dae"/>
        <!-- <cylinder length="0.073" radius="0.04" /> -->
      </geometry>
    </visual>
  </link>
  <link name="os_imu"/>
  <link name="os_lidar"/>
  <joint name="os_sensor_imu_link_joint" type="fixed">
    <parent link="os_sensor"/>
    <child link="os_imu"/>
    <origin rpy="0 0 0" xyz="0.006253 -0.011775 0.007645"/>
  </joint>
  <gazebo reference="os_imu">
    </gazebo>
  <joint name="os_sensor_lidar_link_joint" type="fixed">
    <parent link="os_sensor"/>
    <child link="os_lidar"/>
    <origin rpy="0 0 0" xyz="0.0 0.0 0.03618"/>
  </joint>
  <gazebo reference="os_sensor">
    <sensor name="os_sensor-OS1-64" type="ray">
      <pose>0 0 0 0 0 0</pose>
      <visualize>false</visualize>
      <update_rate>10</update_rate>
      <ray>
        <scan>
          <horizontal>
            <samples>512</samples>
            <resolution>1</resolution>
            <min_angle>-3.14159</min_angle>
            <max_angle>3.14159</max_angle>
          </horizontal>
          <vertical>
            <samples>16</samples>
            <resolution>1</resolution>
            <min_angle>-0.26</min_angle>
            <max_angle>0.26</max_angle>
          </vertical>
        </scan>
        <range>
          <min>0.9</min>
          <max>75.0</max>
          <resolution>0.03</resolution>
        </range>
      </ray>
      <plugin filename="libgazebo_ros_ouster_laser.so" name="gazebo_ros_laser_controller">
        <topicName>/os_cloud_node/points</topicName>
        <frameName>os_lidar</frameName>
        <min_range>0.9</min_range>
        <max_range>75.0</max_range>
        <gaussianNoise>0.008</gaussianNoise>
      </plugin>
    </sensor>
  </gazebo>
  <gazebo>
    <plugin filename="libhector_gazebo_ros_imu.so" name="imu_controller">
      <robotNamespace>/</robotNamespace>
      <updateRate>100.0</updateRate>
      <bodyName>os_imu</bodyName>
      <topicName>/os_cloud_node/imu</topicName>
      <accelDrift>0.005 0.005 0.005</accelDrift>
      <accelGaussianNoise>0.005 0.005 0.005</accelGaussianNoise>
      <rateDrift>0.005 0.005 0.005 </rateDrift>
      <rateGaussianNoise>0.005 0.005 0.005 </rateGaussianNoise>
      <headingDrift>0.005</headingDrift>
      <headingGaussianNoise>0.005</headingGaussianNoise>
    </plugin>
  </gazebo>
  <link name="livox_frame">
    <inertial>
      <mass value="0.1"/>
      <inertia ixx="0.01" ixy="0" ixz="0" iyy="0.01" iyz="0" izz="0.01"/>
    </inertial>
    <visual>
      <origin rpy="0 0 0" xyz="0 0 0"/>
      <geometry>
        <mesh filename="package://asop_description/meshes/livox_mid40.dae">
          </mesh>
      </geometry>
    </visual>
    <collision>
      <origin rpy="0 0 0" xyz="0 0 0"/>
      <geometry>
        <mesh filename="package://asop_description/meshes/livox_mid40.dae">
          </mesh>
      </geometry>
    </collision>
  </link>
  <!--    <link name="${name}">-->
  <!--      <xacro:null_inertial/>-->
  <!--    </link>-->
  <!--    <joint name="${name}_to_${parent}" type="fixed">-->
  <!--      <parent link="${parent}"/>-->
  <!--      <child link="${name}"/>-->
  <!--      <origin rpy="0 0 0" xyz="0.0 0.0 0.0"/>-->
  <!--    </joint>-->
  <joint name="livox_frame_mount_joint" type="fixed">
    <origin rpy="1.059 -1.367 2.104" xyz="0.157 -0.197 0.025"/>
    <parent link="camMainView"/>
    <child link="livox_frame"/>
  </joint>
</robot>
